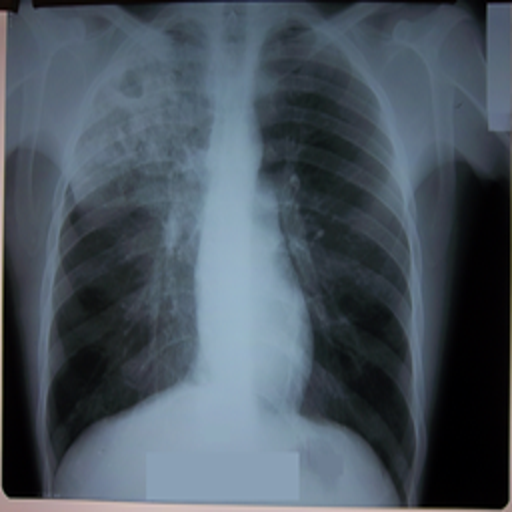TB: (75, 50, 187, 202)
